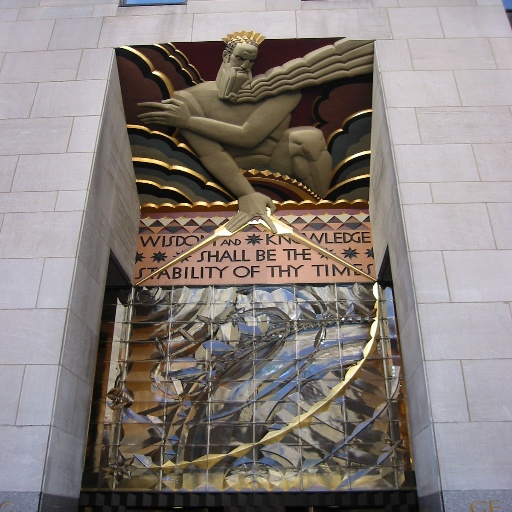hand: (222, 189, 279, 235), (136, 97, 190, 129)
